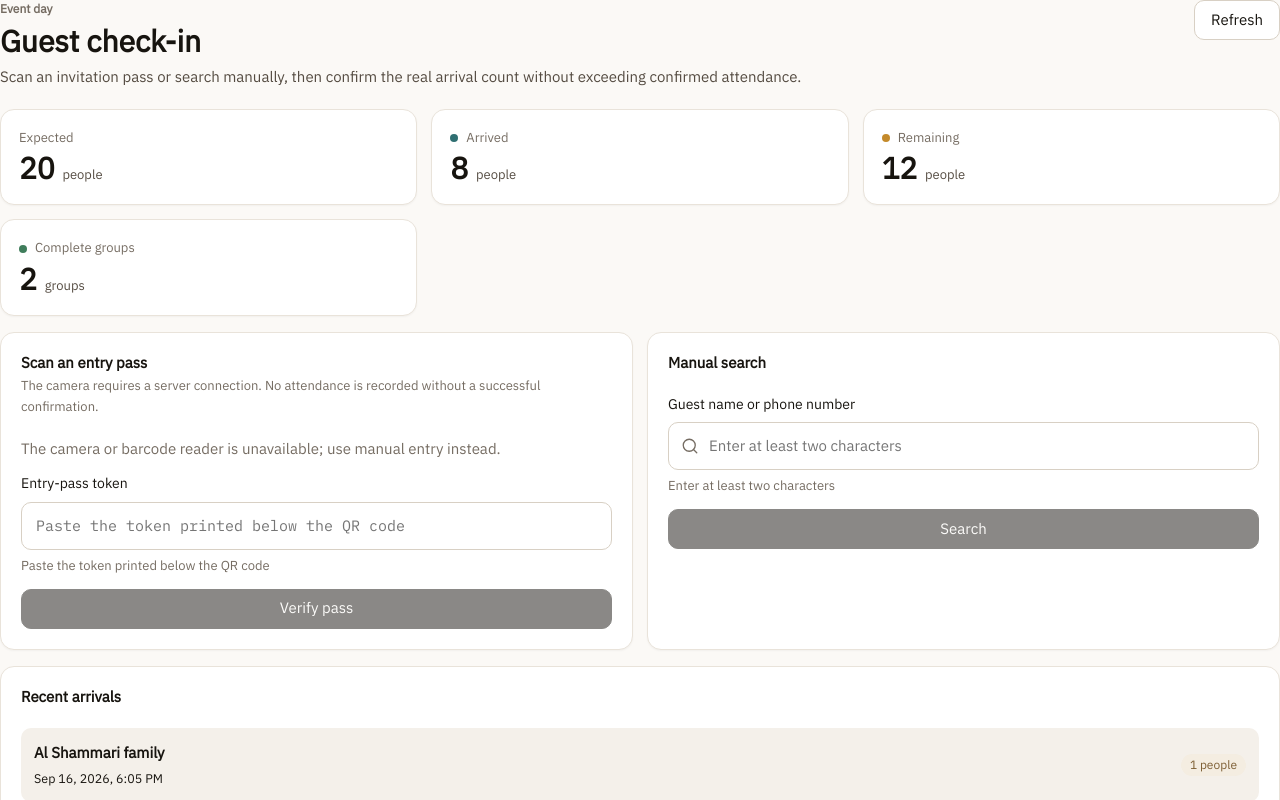
Test: event check-in › reports a duplicate scan without claiming new attendance
In the field labelled "Guest name or phone number": (976, 446) 707,433 -> 1246,459, type "Shammari"
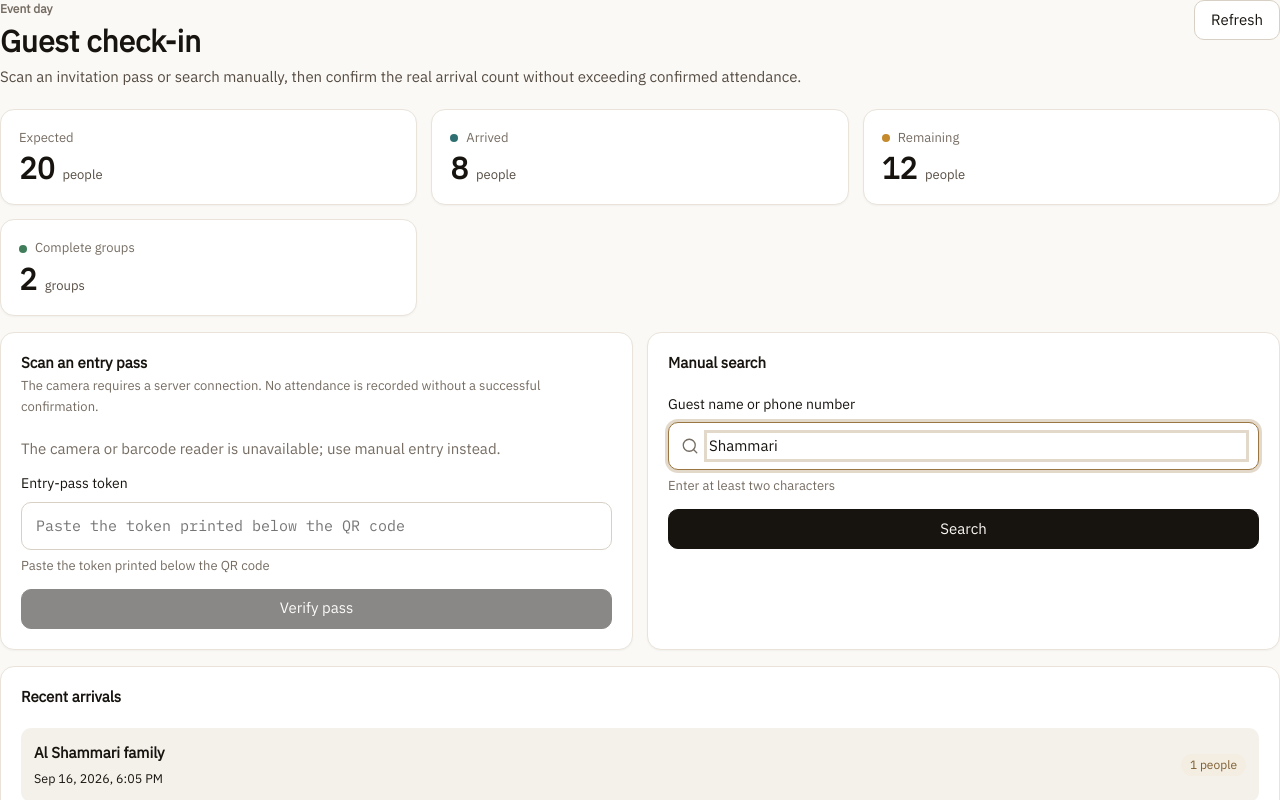
Click the button "Search": (964, 529) 668,509 -> 1259,549
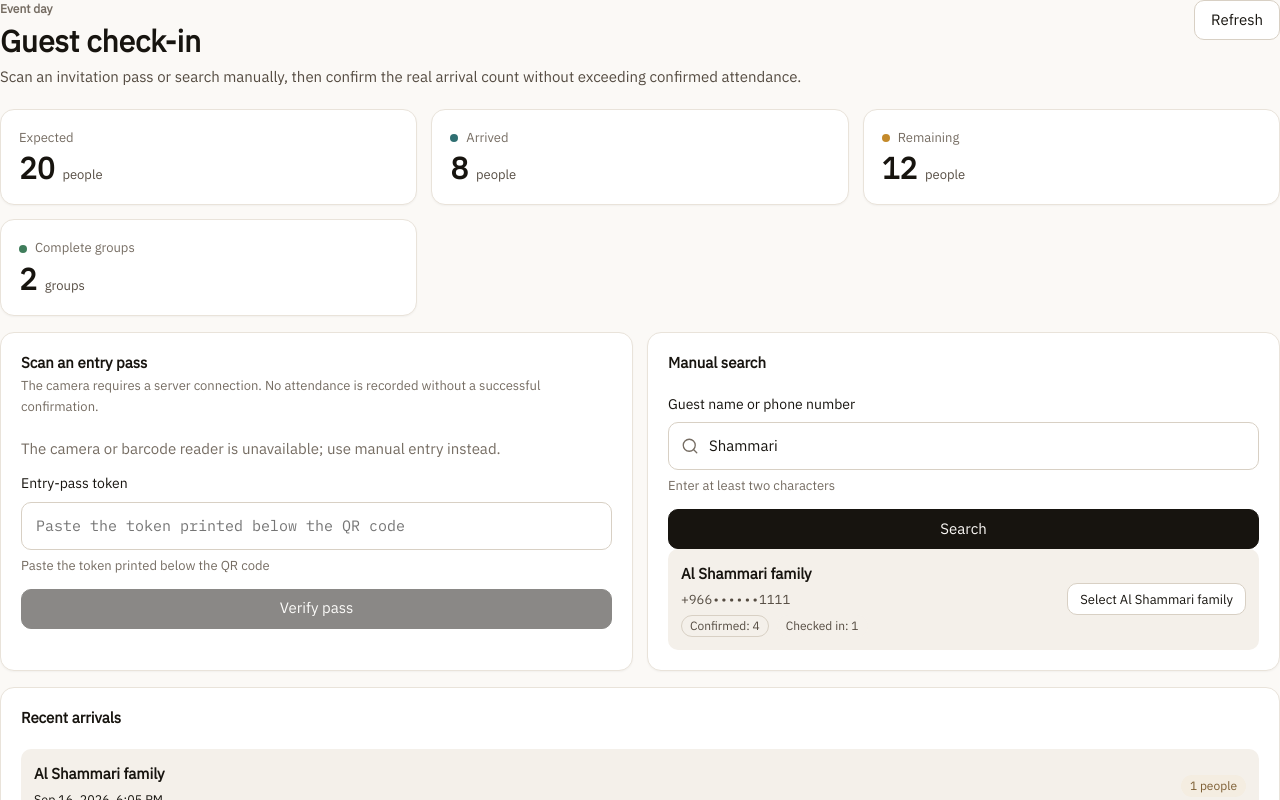
Click the button "Select Al Shammari family": (1157, 600) 1067,584 -> 1246,616
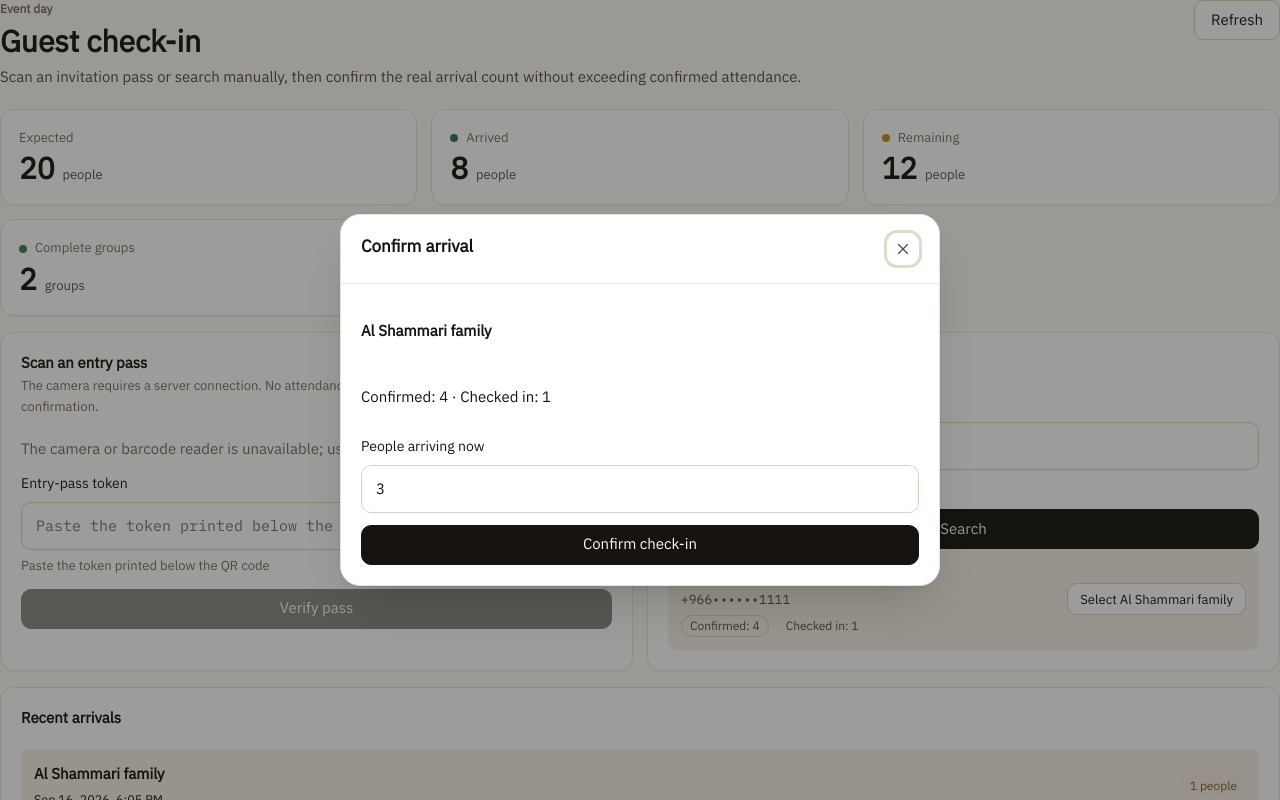
Click the button "Confirm check-in": (640, 545) 361,525 -> 919,565
(page scrolled)
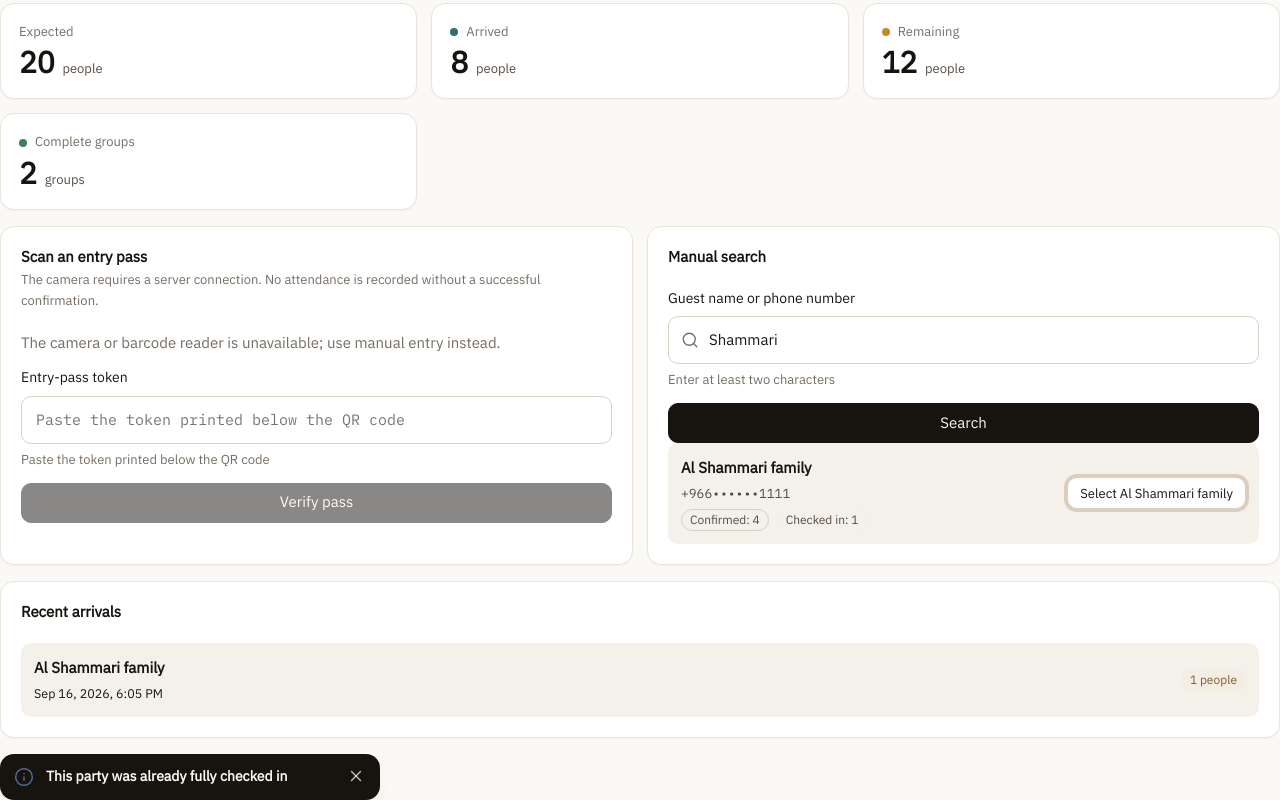
Now the text "This party was already fully checked in" is shown, box 46,766 -> 287,787
